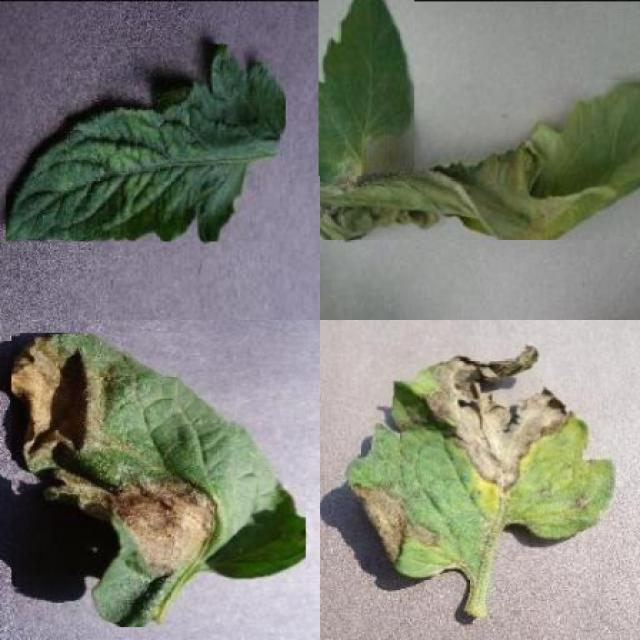Healthy: (319, 0, 414, 176)
Late Blight: (11, 333, 306, 627), (346, 340, 616, 580), (320, 80, 640, 240)
Mosaic Virus: (7, 45, 286, 242)
